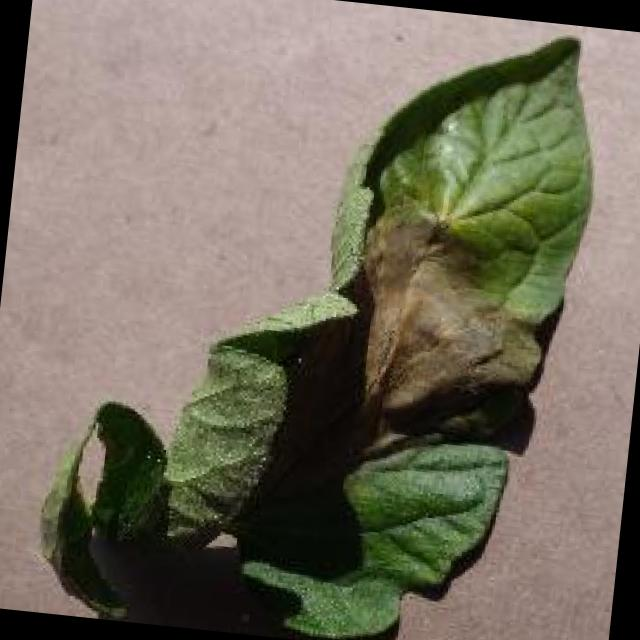Tomato_Late_Blight: (261, 166, 572, 456)
